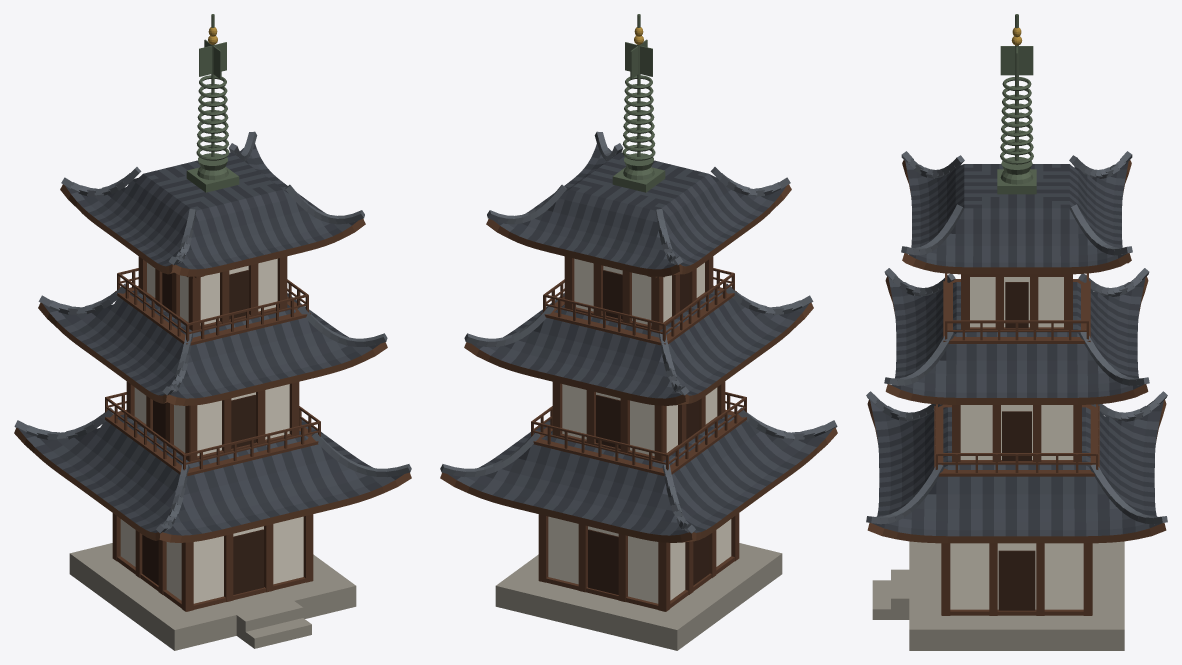
File: pagoda.glb
3 views of the same model, side by side, from view 1: azimuth 30°, elevation 25°; view 2: azimuth 150°, elevation 25°; view 3: azimuth 270°, elevation 25° (orthographic). The views are drawn at different scales.
Visible parts, largest first — view 1: tenneiji_pagoda; view 2: tenneiji_pagoda; view 3: tenneiji_pagoda.
Part boxes in pixels (x1,y1,x2,y2): tenneiji_pagoda: (14, 14, 411, 650); tenneiji_pagoda: (440, 14, 837, 650); tenneiji_pagoda: (866, 14, 1167, 650).
Size of the model in its own units: 11.53 by 24.83 by 11.5.
